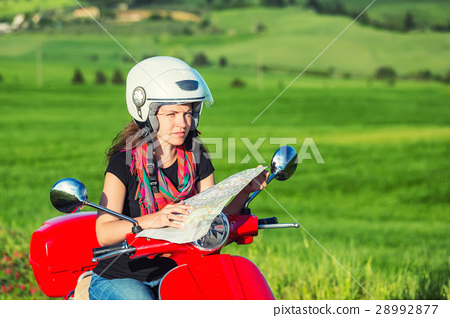helmet: (119, 57, 210, 117)
